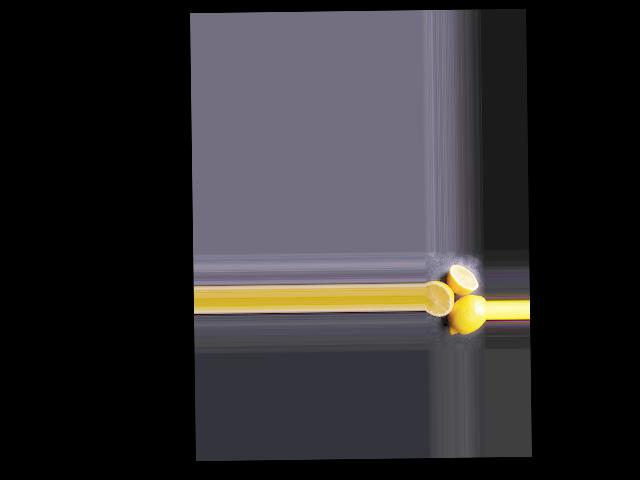lemon: (449, 292, 485, 337)
